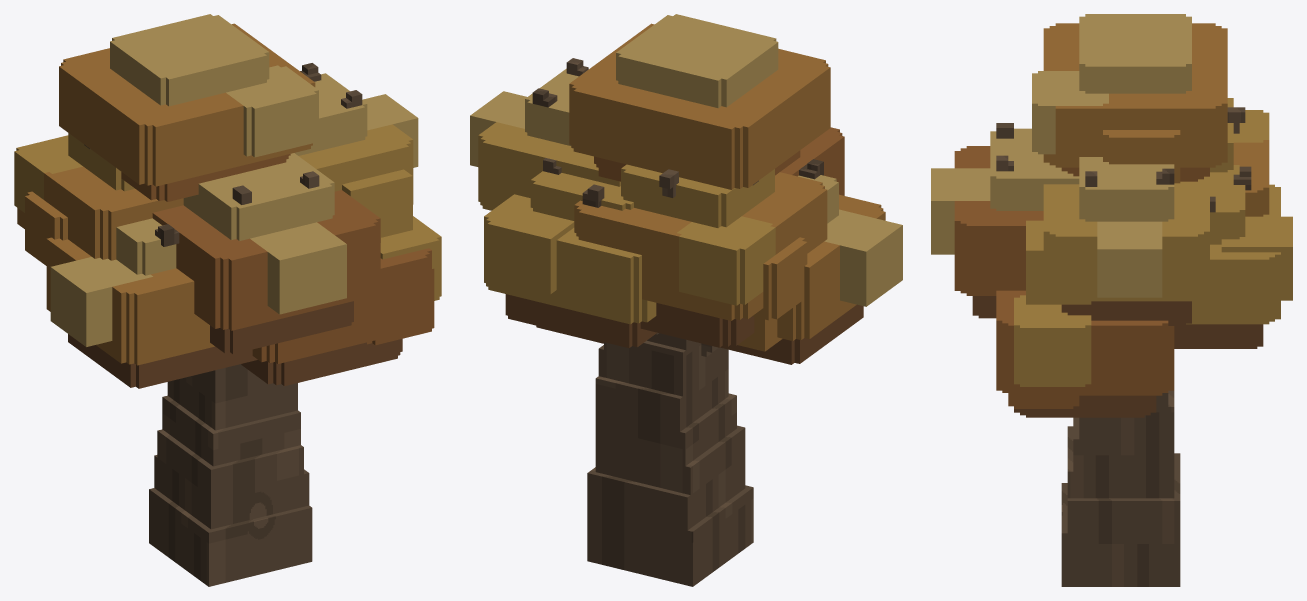
Rendered from oak_ancient_autumn_2.glb.
3 views of the same model, side by side, from view 1: azimuth 30°, elevation 25°; view 2: azimuth 150°, elevation 25°; view 3: azimuth 270°, elevation 25° (orthographic). The views are drawn at different scales.
Parts seen in each view (by area): view 1: VoxelVisual; view 2: VoxelVisual; view 3: VoxelVisual.
Part boxes in pixels (x1,y1,x2,y2): VoxelVisual: [14, 14, 441, 586]; VoxelVisual: [470, 14, 902, 586]; VoxelVisual: [931, 14, 1292, 586].
Size of what is drawn, in the model's own units: 17.5 by 23.5 by 15.25.
